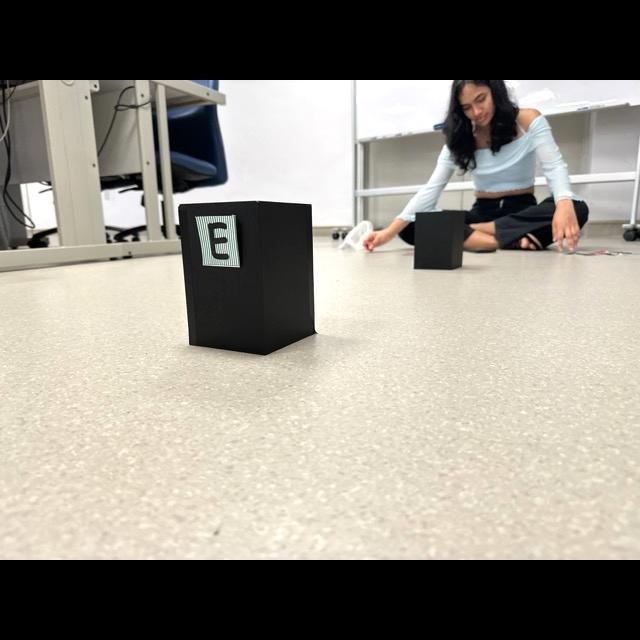E: (208, 222, 230, 260)
